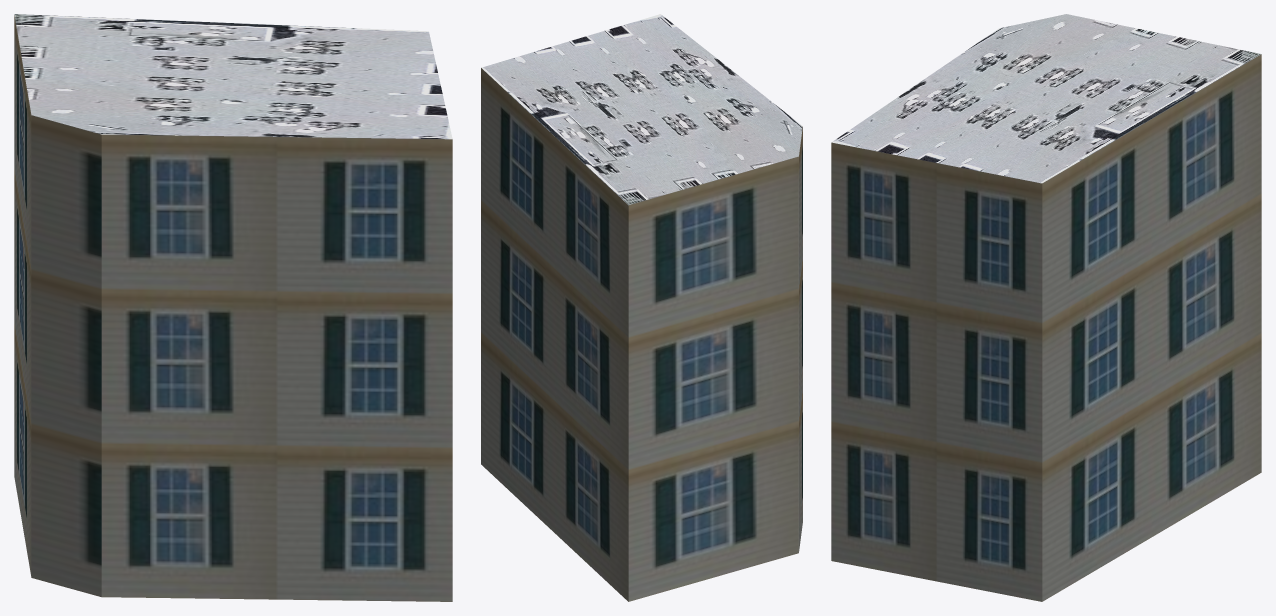
The model's file is ResTex__5168.fbx.
3 views of the same model, side by side, from view 1: azimuth 30°, elevation 25°; view 2: azimuth 150°, elevation 25°; view 3: azimuth 270°, elevation 25° (orthographic). The views are drawn at different scales.
Parts seen in each view (by area): view 1: CityEngineMaterial_7_m, CityEngineMaterial_m; view 2: CityEngineMaterial_7_m, CityEngineMaterial_m; view 3: CityEngineMaterial_7_m, CityEngineMaterial_m.
Part boxes in pixels (<box>): CityEngineMaterial_7_m: <box>14,15,452,601</box>; CityEngineMaterial_m: <box>14,14,452,139</box>; CityEngineMaterial_7_m: <box>481,68,802,601</box>; CityEngineMaterial_m: <box>481,14,802,205</box>; CityEngineMaterial_7_m: <box>831,54,1261,601</box>; CityEngineMaterial_m: <box>831,14,1261,183</box>.
Size of the model in its own units: 7.82 by 9 by 8.39.
Materials: 2 (2 with a texture image).
